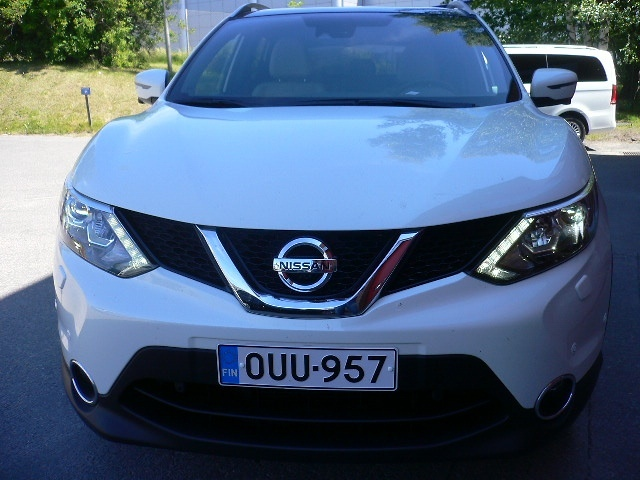license: (215, 343, 395, 388)
